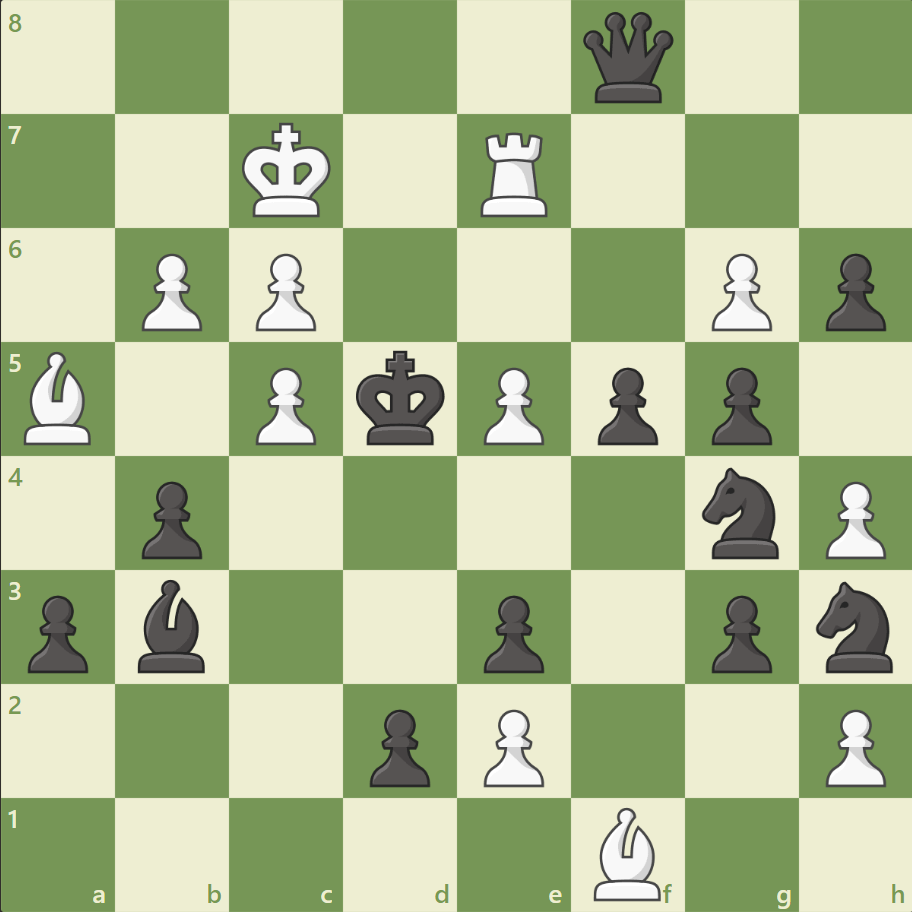B: (585, 801, 669, 904), (17, 347, 101, 449)
K: (238, 117, 338, 225)
P: (133, 246, 208, 337), (247, 246, 322, 337), (701, 246, 776, 337), (247, 359, 322, 450), (474, 359, 549, 450), (474, 700, 549, 791), (815, 473, 889, 564), (815, 700, 889, 791)
R: (473, 125, 556, 222)
b: (131, 574, 215, 676)
k: (351, 344, 451, 452)
n: (692, 461, 789, 564), (806, 575, 903, 677)
p: (701, 359, 776, 450), (133, 473, 208, 564), (20, 586, 95, 677), (474, 586, 549, 677), (701, 586, 776, 677), (815, 246, 889, 337), (588, 359, 662, 450), (361, 700, 435, 791)
q: (578, 9, 677, 108)
